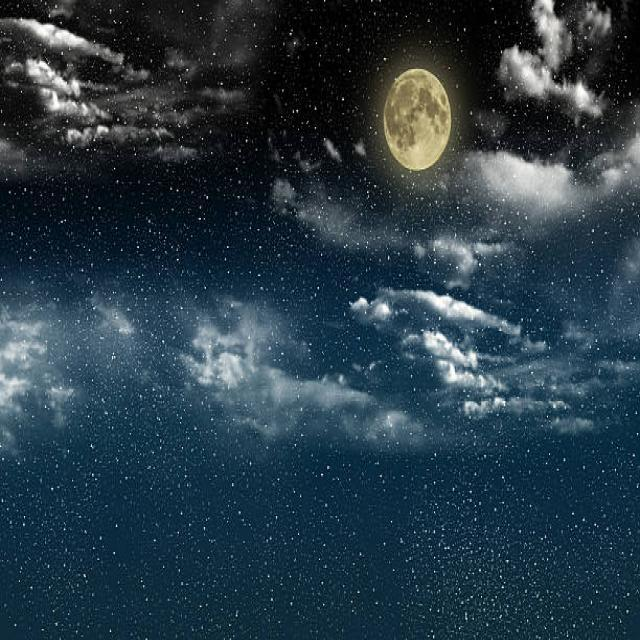moon: (379, 61, 453, 174)
